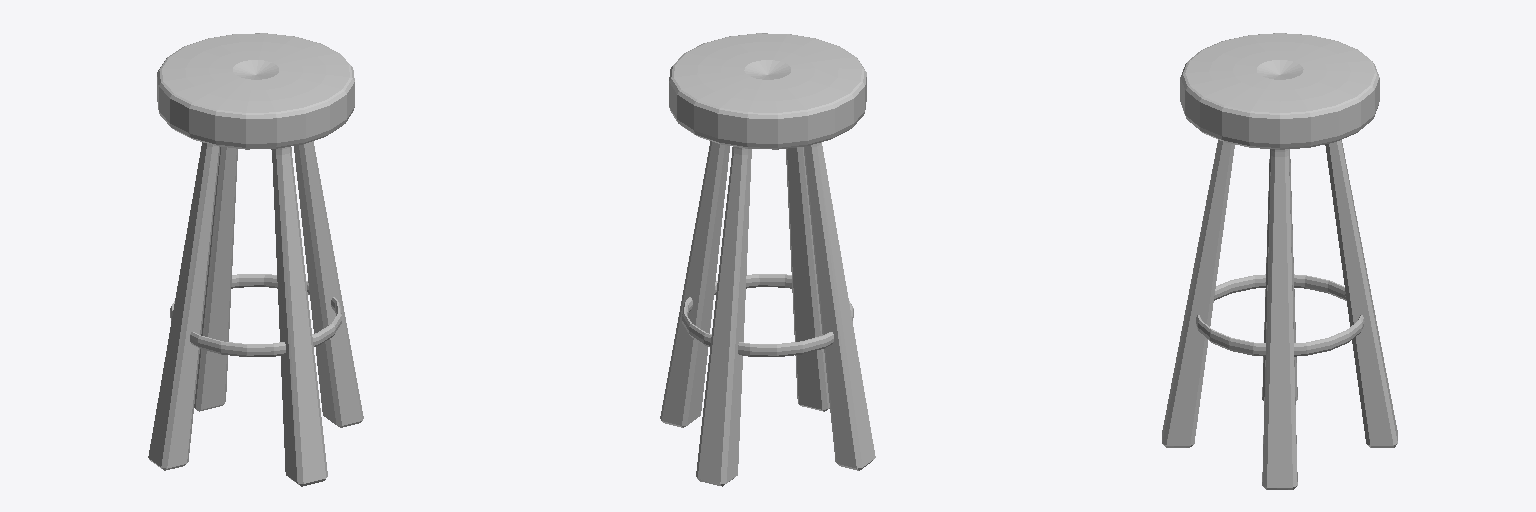
Rendered from bar_stool.obj.
3 views of the same model, side by side, from view 1: azimuth 30°, elevation 25°; view 2: azimuth 150°, elevation 25°; view 3: azimuth 270°, elevation 25° (orthographic).
Visible parts, largest first — view 1: initialShadingGroup bar_stool legs, initialShadingGroup bar_stool seat, initialShadingGroup brace bar_stool; view 2: initialShadingGroup bar_stool legs, initialShadingGroup bar_stool seat, initialShadingGroup brace bar_stool; view 3: initialShadingGroup bar_stool legs, initialShadingGroup bar_stool seat, initialShadingGroup brace bar_stool.
Boxes of the visible parts, x1,y1,x2,y2 form: initialShadingGroup bar_stool legs: [148, 141, 363, 486]; initialShadingGroup bar_stool seat: [157, 33, 354, 149]; initialShadingGroup brace bar_stool: [170, 274, 341, 356]; initialShadingGroup bar_stool legs: [660, 141, 875, 486]; initialShadingGroup bar_stool seat: [669, 33, 866, 149]; initialShadingGroup brace bar_stool: [682, 274, 853, 356]; initialShadingGroup bar_stool legs: [1162, 140, 1397, 489]; initialShadingGroup bar_stool seat: [1180, 33, 1379, 149]; initialShadingGroup brace bar_stool: [1196, 274, 1364, 356].
Size of the model in its own units: 2.03 by 3.56 by 2.04.